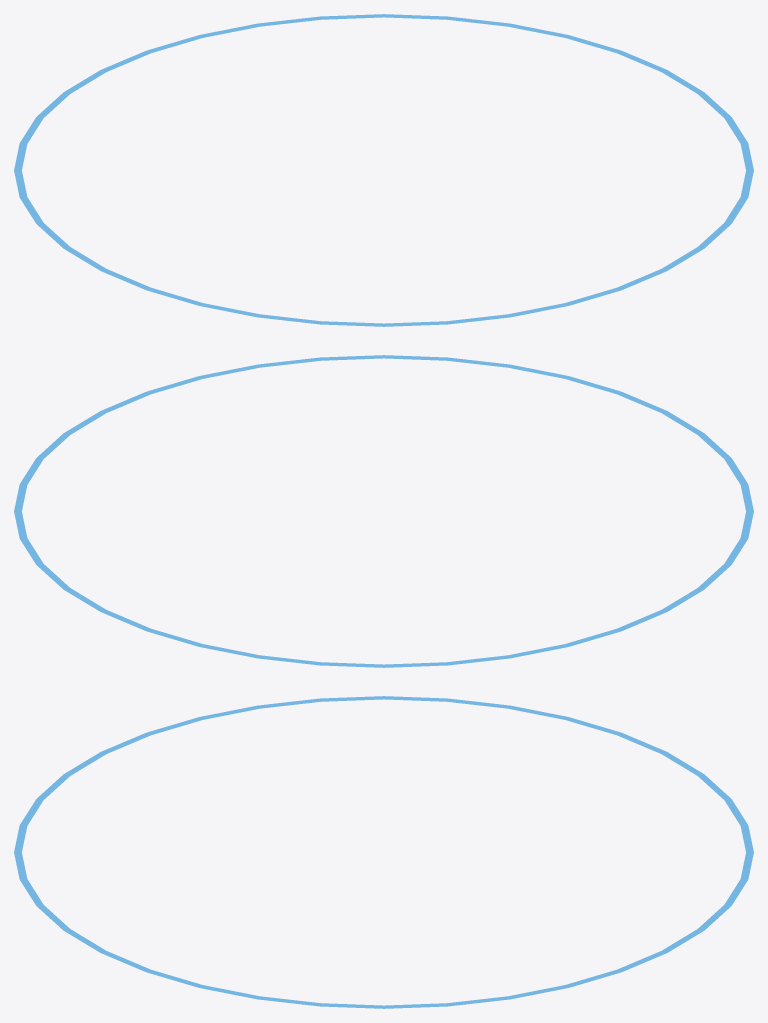
File: ur3e_scaled_22.obj
3 renders of one model, top to bottom at view 1: azimuth 30°, elevation 25°; view 2: azimuth 150°, elevation 25°; view 3: azimuth 270°, elevation 25°, orthographic.
Size of the model in its own units: 0.075 by 0 by 0.075.
